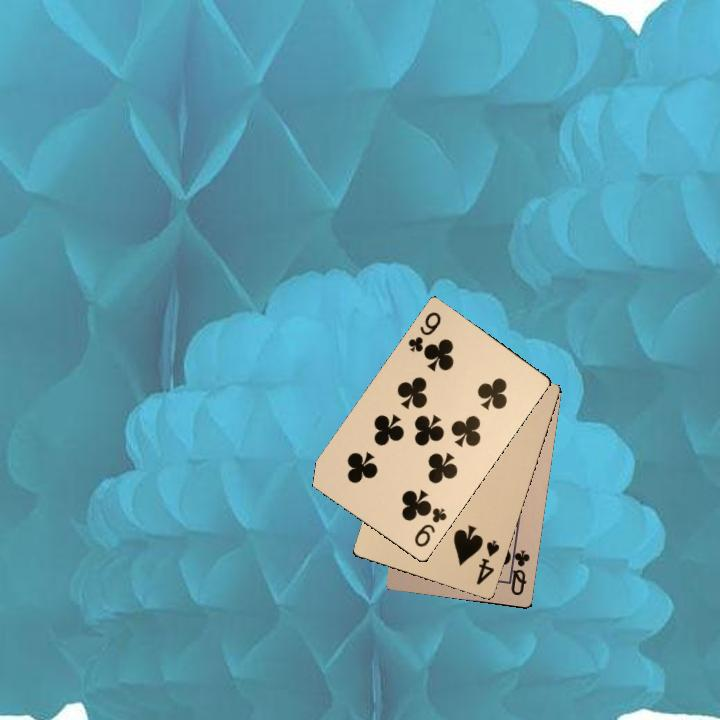4s: (472, 536, 502, 587)
9c: (404, 307, 444, 355), (410, 503, 449, 550)
Qc: (504, 544, 532, 598)
